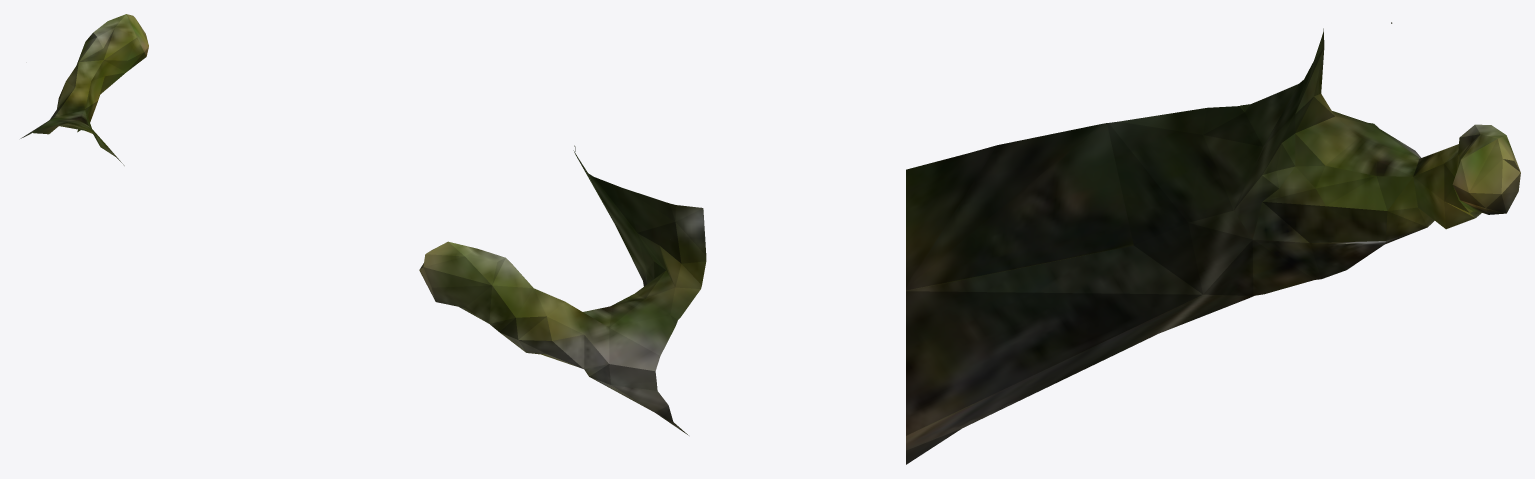
The picture shows the model from 3 angles, left to right: view 1: azimuth 30°, elevation 25°; view 2: azimuth 150°, elevation 25°; view 3: azimuth 270°, elevation 25°; orthographic projection. The views are drawn at different scales.
Size of the model in its own units: 0.5227 by 0.7061 by 0.8726.
1 material, 1 textured.
